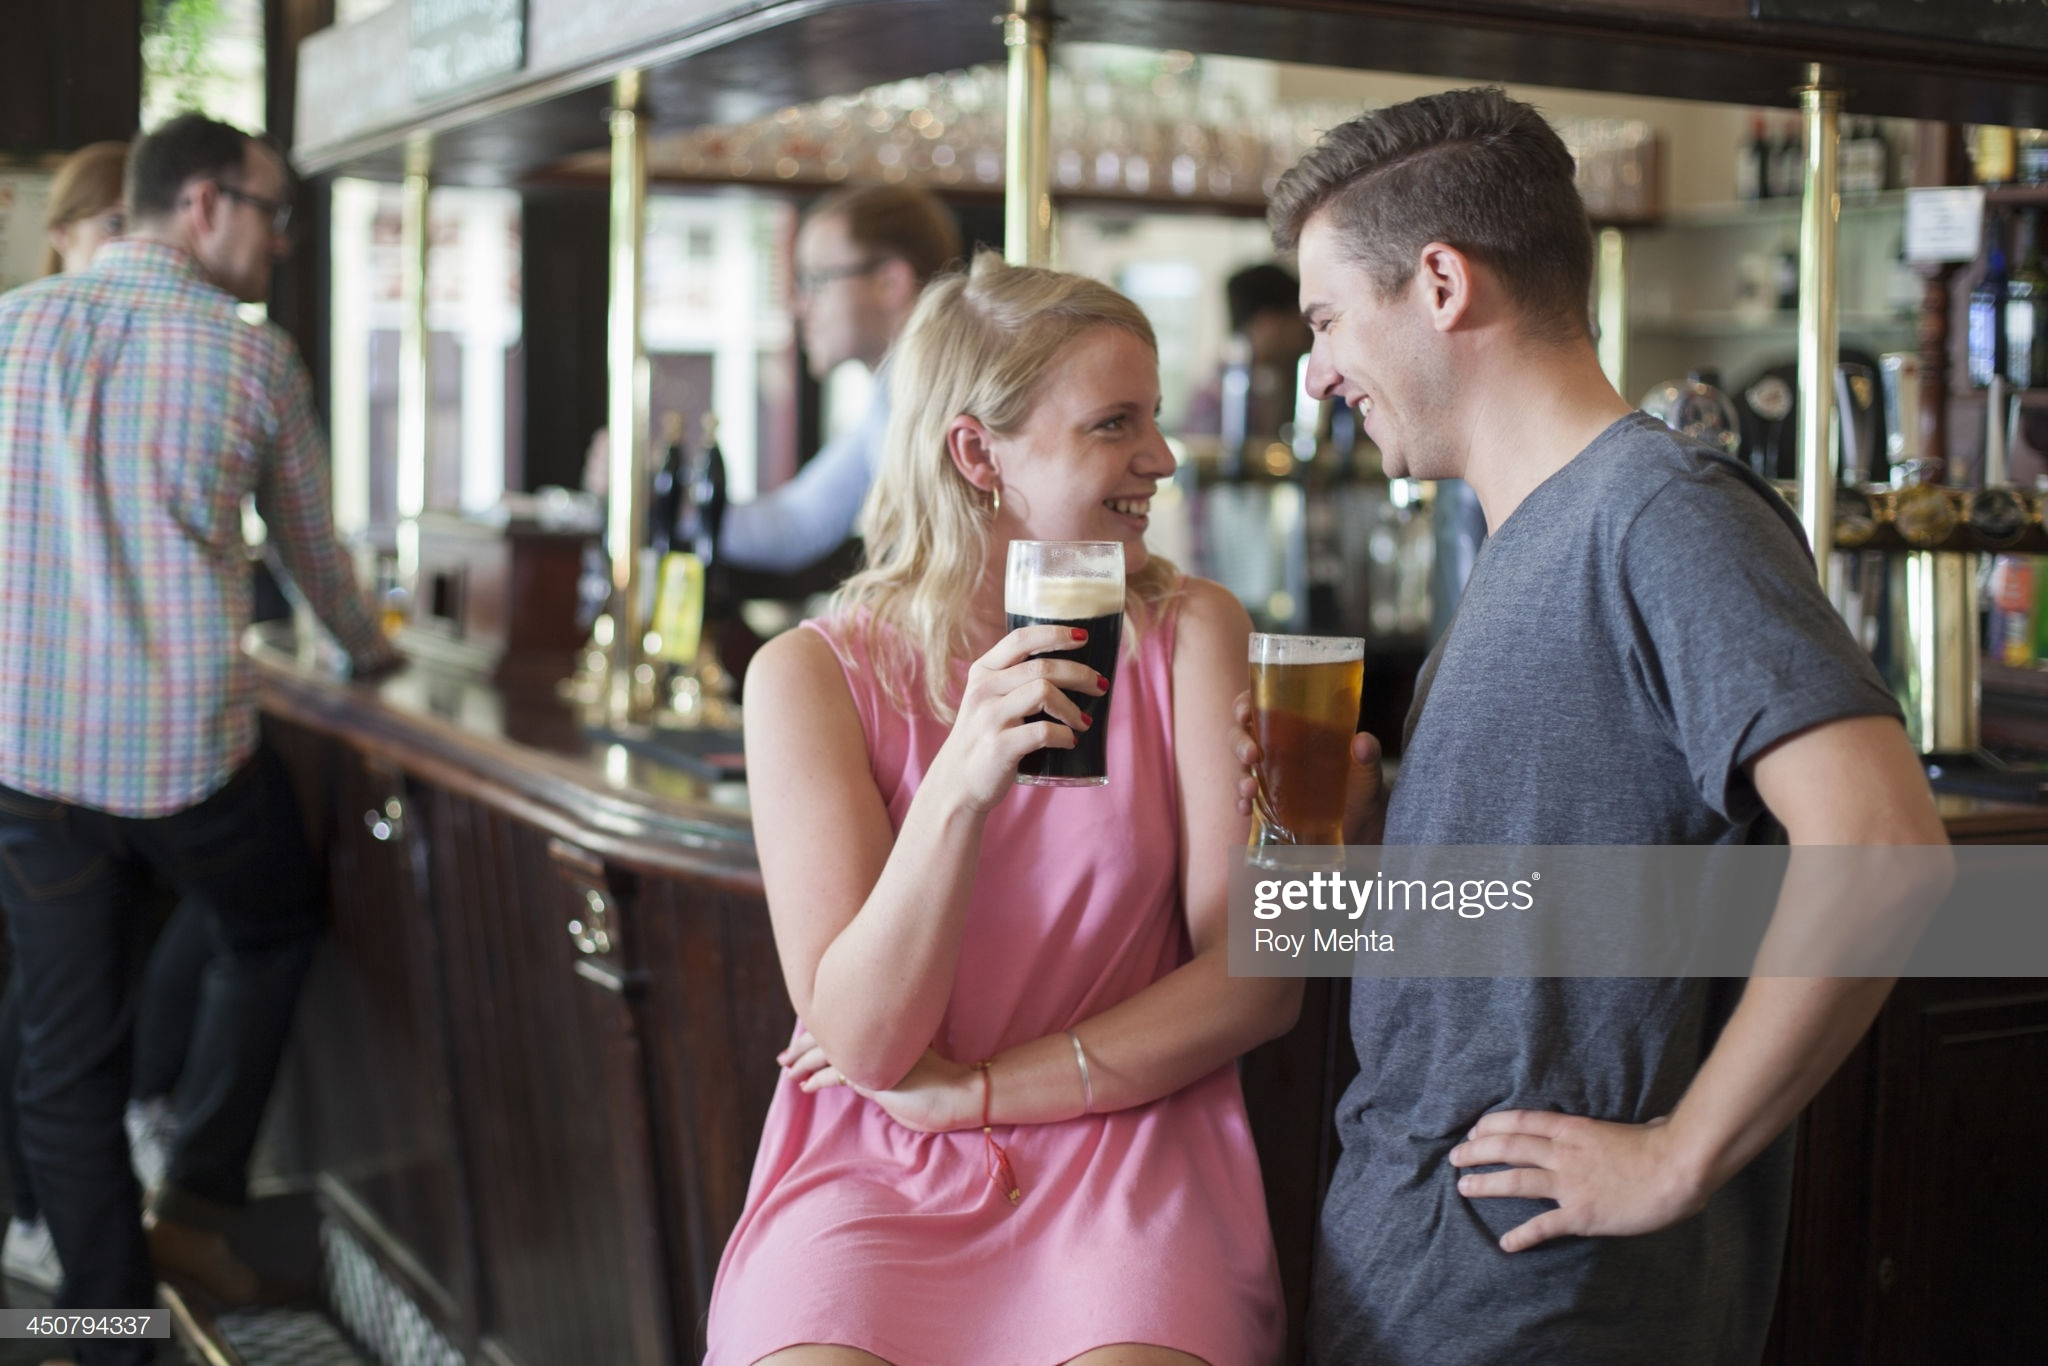glassBeer: (1250, 624, 1376, 890), (1016, 531, 1144, 784)
